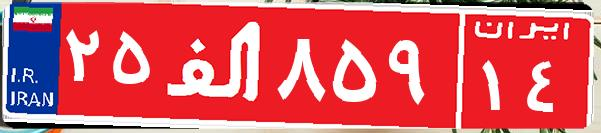1: (475, 38, 525, 113)
2: (57, 26, 110, 107)
4: (525, 38, 570, 115)
5: (330, 28, 385, 110), (110, 28, 158, 105)
8: (273, 28, 330, 110)
9: (385, 28, 445, 110)
الف: (158, 15, 273, 115)
